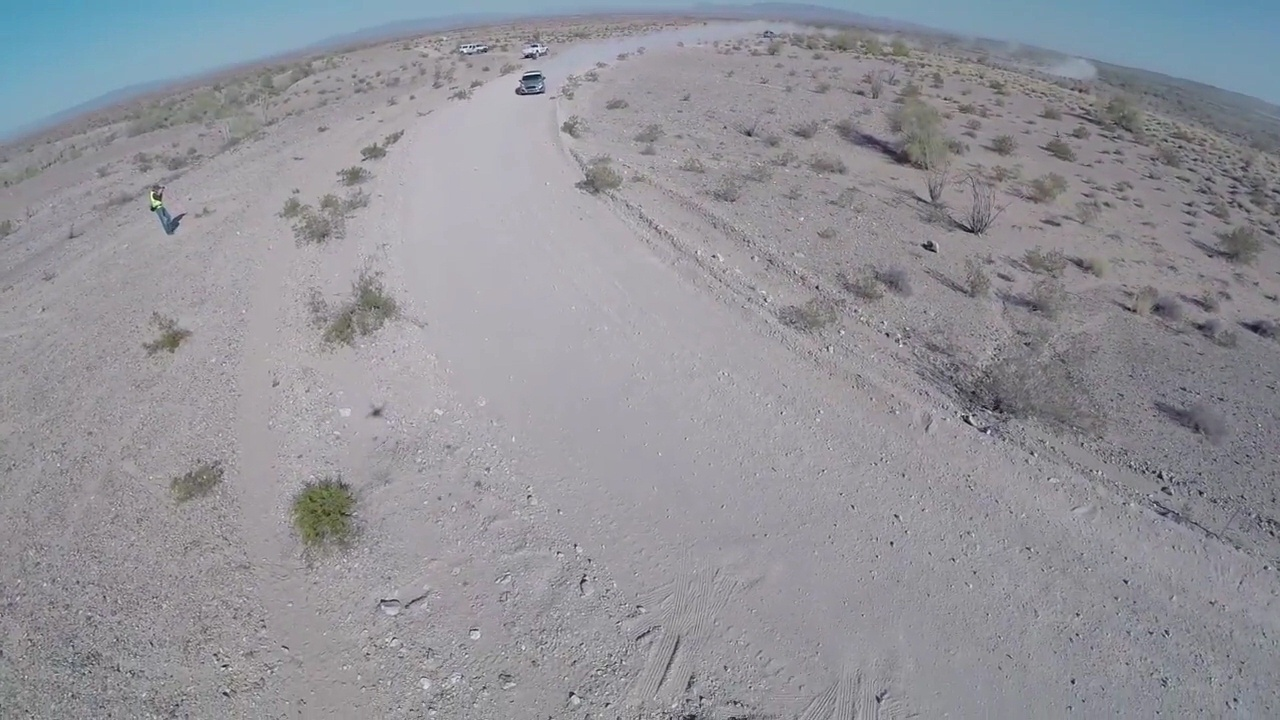araba: (516, 71, 549, 97)
insan: (148, 179, 179, 235)
kamyonet: (524, 39, 555, 58)
